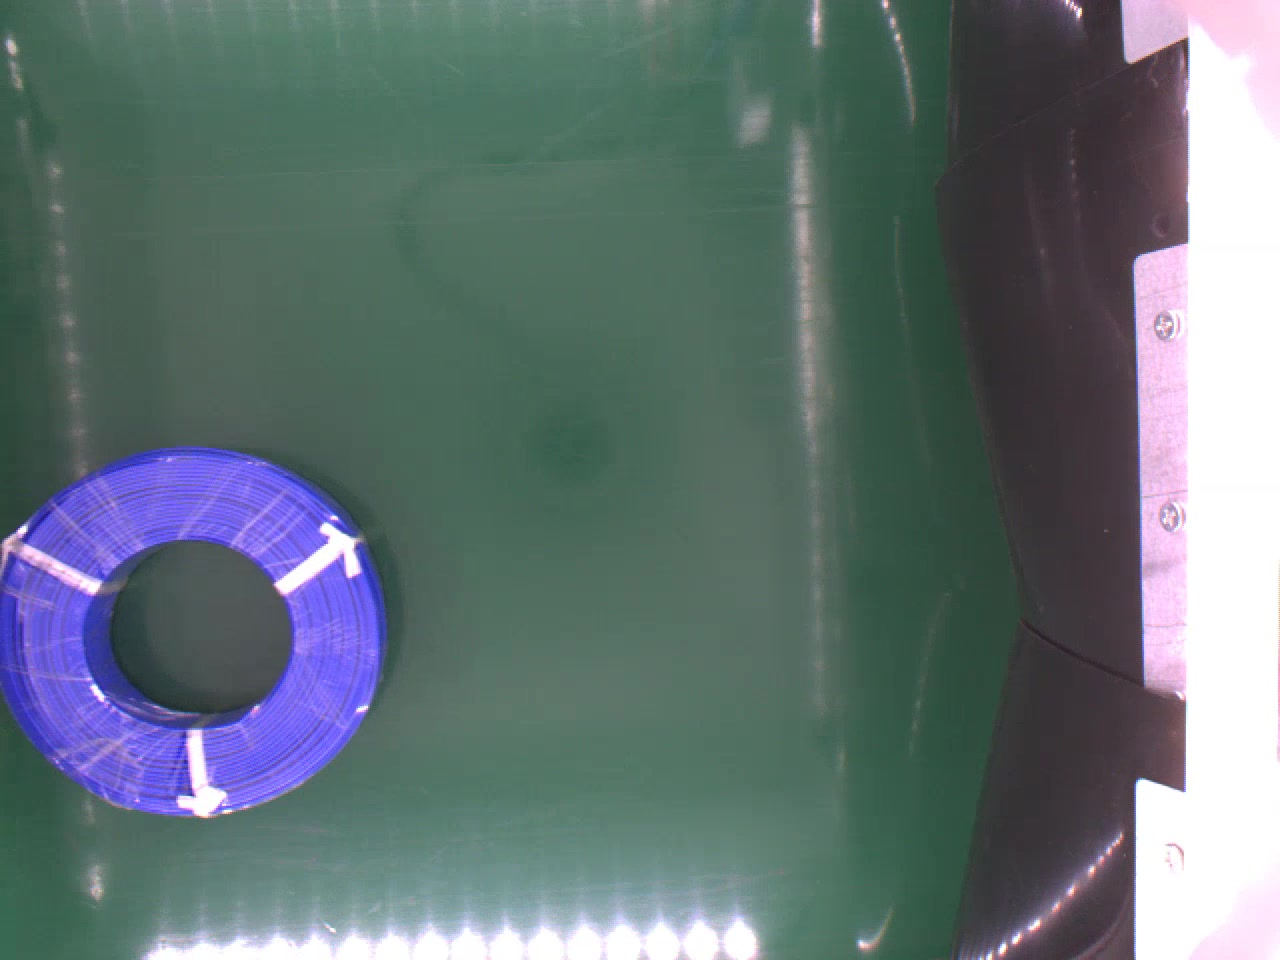blue: (0, 445, 387, 816)
